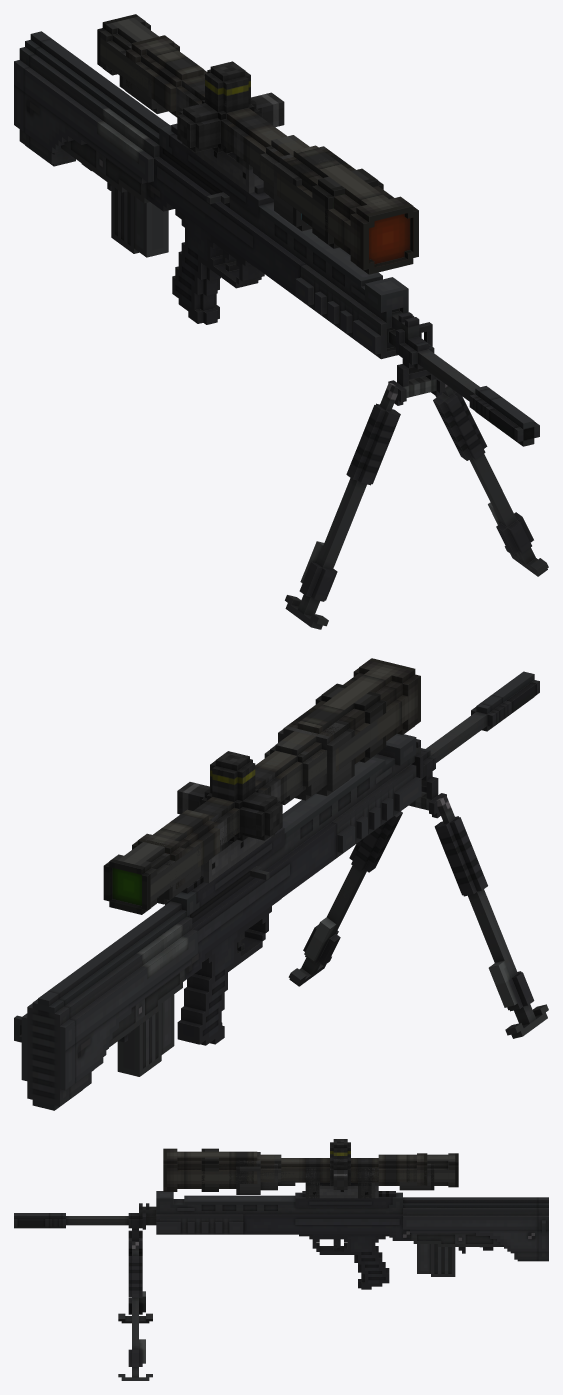
The model's file is RD_QBU88.glb.
3 renders of one model, top to bottom at view 1: azimuth 30°, elevation 25°; view 2: azimuth 150°, elevation 25°; view 3: azimuth 270°, elevation 25°, orthographic. The views are drawn at different scales.
Visible parts, largest first — view 1: QBU88, SCOPE_NIGHTFORCE, SCOPE_LEUPOLD, QBU88_DIPOD_LEG1, QBU88_DIPOD_LEG2, QBU88_CLIP, SCOPE_SCHMIDT_BENDER; view 2: QBU88, SCOPE_LEUPOLD, SCOPE_NIGHTFORCE, QBU88_DIPOD_LEG1, QBU88_DIPOD_LEG2, SCOPE_SCHMIDT_BENDER, QBU88_CLIP; view 3: QBU88, SCOPE_NIGHTFORCE, SCOPE_LEUPOLD, SCOPE_SCHMIDT_BENDER, QBU88_DIPOD_LEG2, QBU88_CLIP, QBU88_DIPOD_LEG1.
Part boxes in pixels (<box>): QBU88: <box>14,31,539,446</box>; SCOPE_NIGHTFORCE: <box>126,35,418,274</box>; SCOPE_LEUPOLD: <box>97,14,383,248</box>; QBU88_DIPOD_LEG1: <box>285,383,400,629</box>; QBU88_DIPOD_LEG2: <box>433,384,548,576</box>; QBU88_CLIP: <box>111,185,168,257</box>; SCOPE_SCHMIDT_BENDER: <box>119,43,343,231</box>; QBU88: <box>14,671,539,1110</box>; SCOPE_LEUPOLD: <box>103,683,386,914</box>; SCOPE_NIGHTFORCE: <box>132,658,420,888</box>; QBU88_DIPOD_LEG1: <box>434,795,548,1038</box>; QBU88_DIPOD_LEG2: <box>288,811,402,986</box>; SCOPE_SCHMIDT_BENDER: <box>157,720,354,904</box>; QBU88_CLIP: <box>117,994,174,1076</box>; QBU88: <box>14,1191,548,1289</box>; SCOPE_NIGHTFORCE: <box>163,1148,427,1198</box>; SCOPE_LEUPOLD: <box>201,1139,458,1198</box>; SCOPE_SCHMIDT_BENDER: <box>236,1152,434,1198</box>; QBU88_DIPOD_LEG2: <box>118,1242,152,1380</box>; QBU88_CLIP: <box>417,1244,455,1276</box>; QBU88_DIPOD_LEG1: <box>118,1238,152,1323</box>.
Bounding box in the file's own units: 0.4209 × 0.657 × 1.52.
4 materials, 4 textured.
